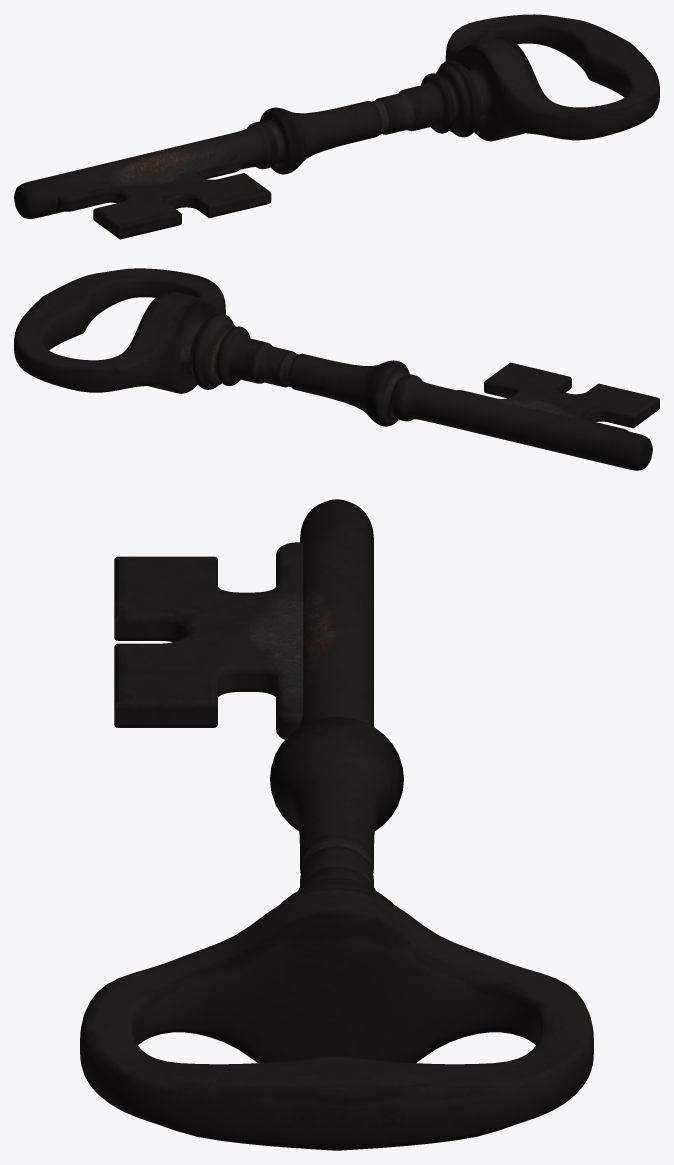
The model's file is KeyB.glb.
3 views of the same model, one above another, from view 1: azimuth 30°, elevation 25°; view 2: azimuth 150°, elevation 25°; view 3: azimuth 270°, elevation 25° (orthographic). The views are drawn at different scales.
Visible parts, largest first — view 1: Object_2; view 2: Object_2; view 3: Object_2.
Part boxes in pixels (x1,y1,x2,y2): Object_2: (14, 14, 659, 239); Object_2: (14, 268, 659, 470); Object_2: (80, 499, 593, 1150).
Bounding box in the file's own units: 0.7475 × 0.1053 × 0.2742.
Materials: 1 (1 with a texture image).
